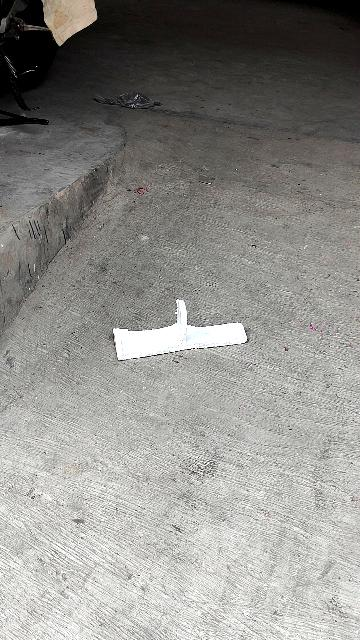cocksheet: (103, 289, 265, 375)
